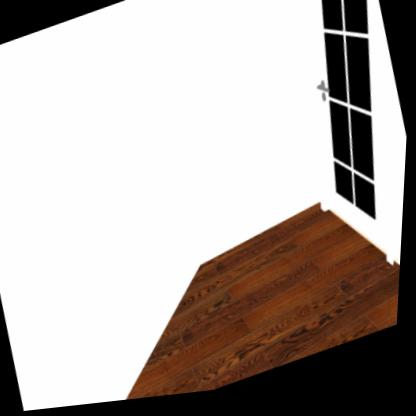Wooden floor: (131, 212, 403, 403)
